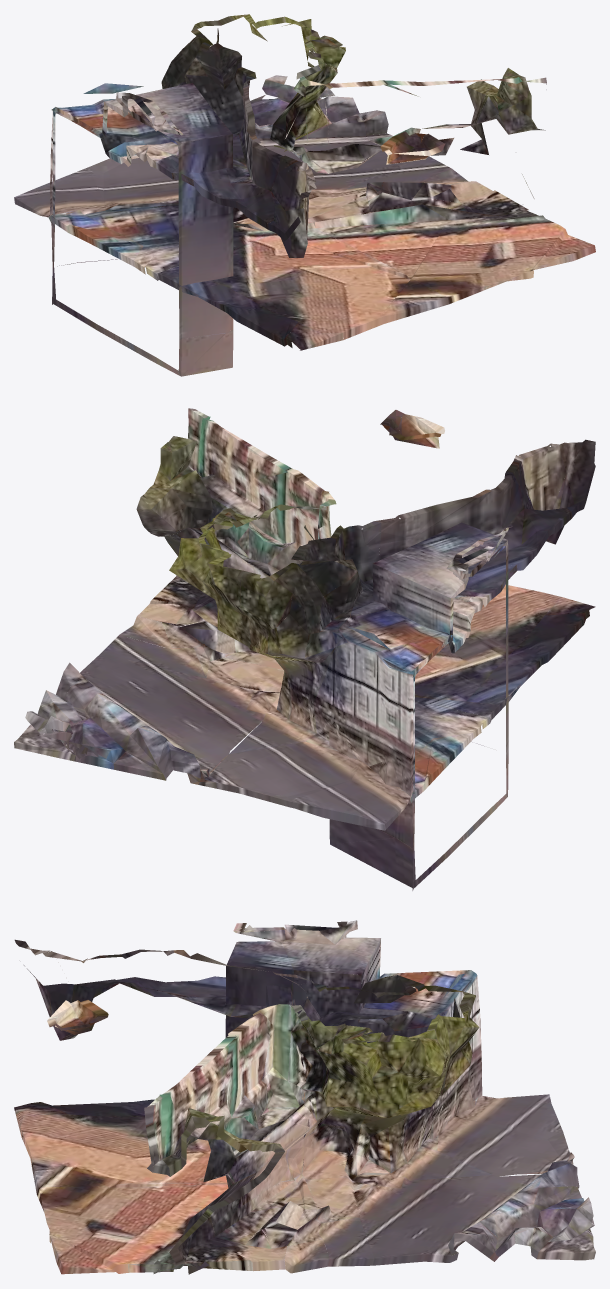
The picture shows the model from 3 angles, top to bottom: view 1: azimuth 30°, elevation 25°; view 2: azimuth 150°, elevation 25°; view 3: azimuth 270°, elevation 25°; orthographic projection. The views are drawn at different scales.
Visible parts, largest first — view 1: Mesh_0; view 2: Mesh_0; view 3: Mesh_0.
Part boxes in pixels (x1,y1,x2,y2): Mesh_0: (14,14,595,376); Mesh_0: (14,408,595,890); Mesh_0: (14,920,595,1274).
Bounding box in the file's own units: 33.27 × 21.99 × 41.28.
2 materials, 2 textured.
